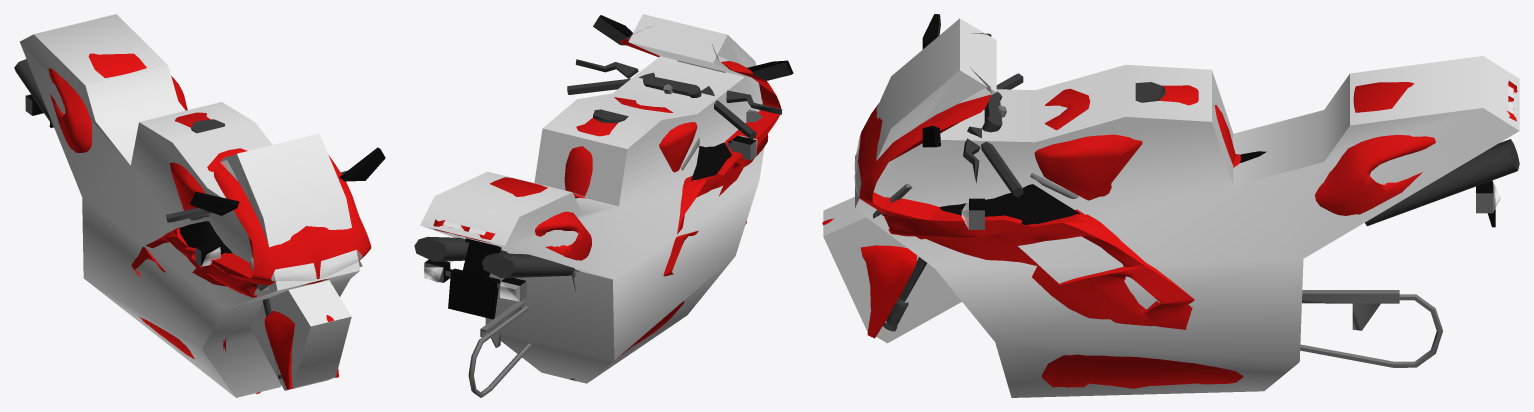
File: bike_0.FBX
3 views of the same model, side by side, from view 1: azimuth 30°, elevation 25°; view 2: azimuth 150°, elevation 25°; view 3: azimuth 270°, elevation 25° (orthographic). The views are drawn at different scales.
Parts seen in each view (by area): view 1: lod, carrd03, steer; view 2: lod, carrd03, steer; view 3: lod, carrd03, steer.
Boxes of the visible parts, x1,y1,x2,y2 form: lod: (20, 14, 360, 397); carrd03: (14, 53, 385, 393); steer: (166, 170, 347, 389); lod: (420, 14, 764, 383); carrd03: (414, 15, 793, 397); steer: (567, 59, 782, 224); lod: (823, 18, 1519, 397); carrd03: (854, 14, 1519, 388); steer: (822, 73, 1023, 338).
Bounding box in the file's own units: 139 × 176 × 325.
